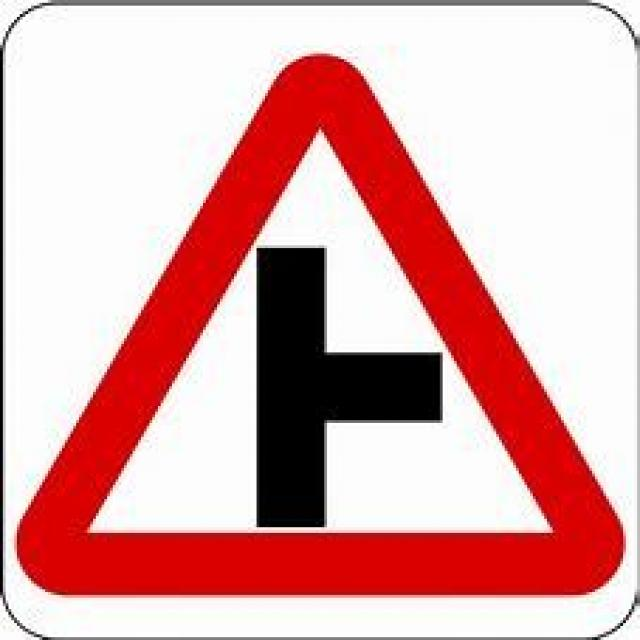SIDE_ROAD_RIGHT: (11, 51, 626, 592)
